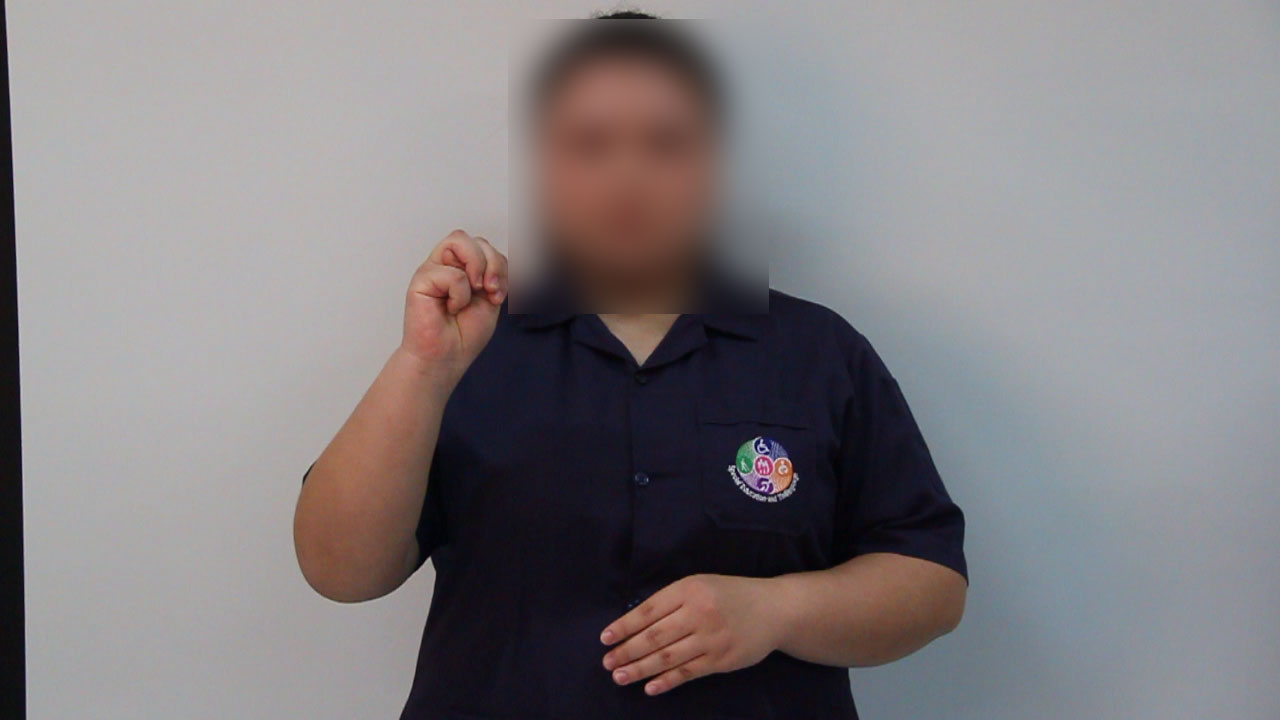mor: (398, 210, 518, 366)
